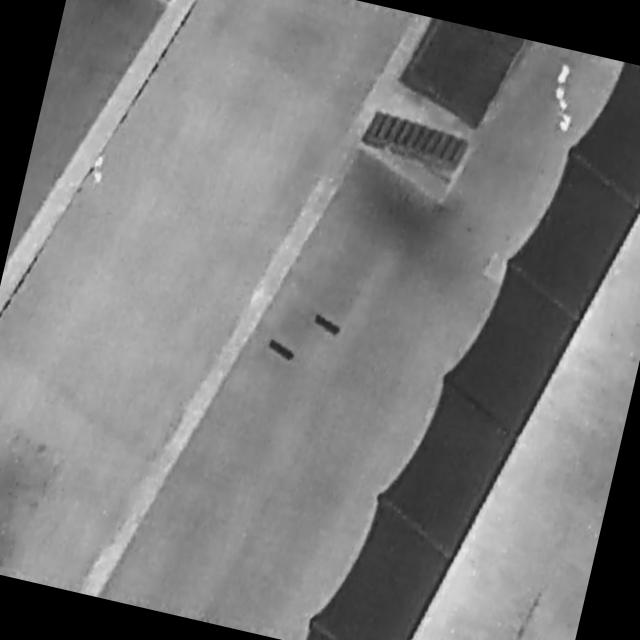person: (89, 152, 110, 188)
